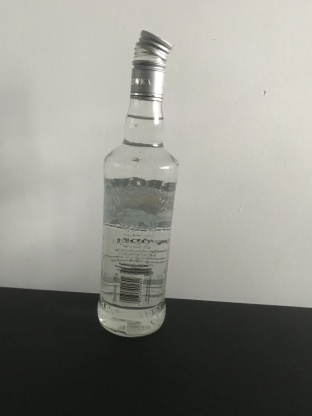nakretka: (128, 26, 173, 103)
